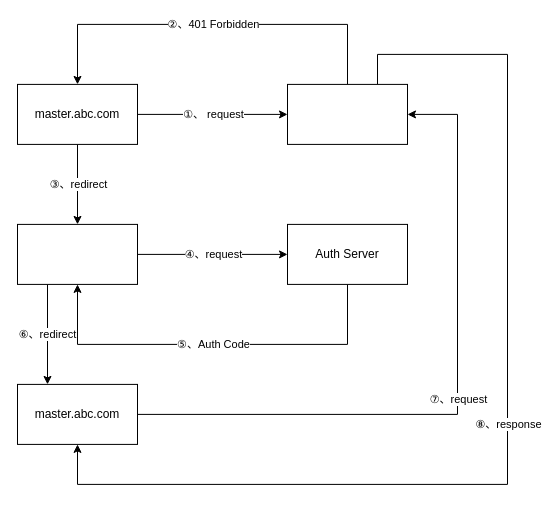
The diagram is 558 pixels wide and 510 high, and some of its shapes have lost their labels. The centre of each missing label's shape, as x and y in pixels:
Business Server: the point at 347,113
sso.abc.com: the point at 77,253
